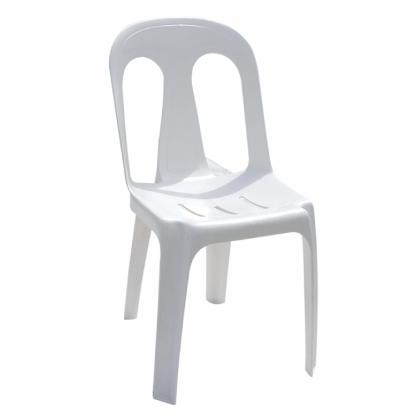chair: (110, 18, 327, 415)
